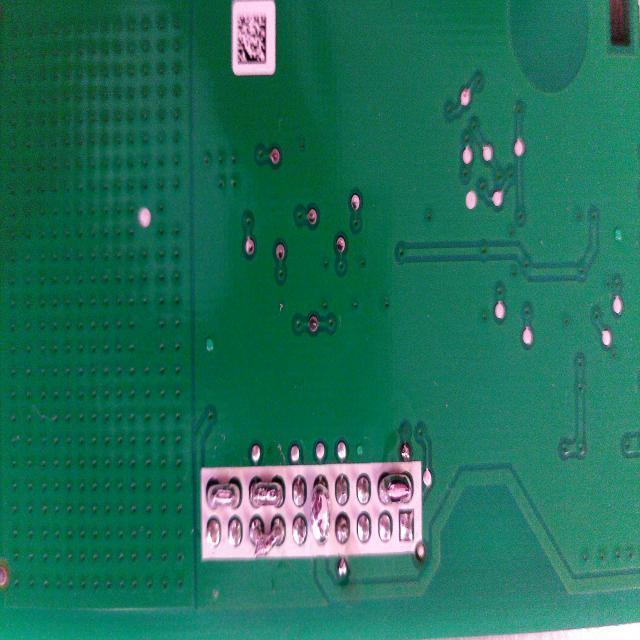Soldering bridge: (310, 472, 331, 552), (248, 516, 286, 560), (376, 468, 416, 508), (248, 472, 286, 512), (204, 478, 242, 512)
